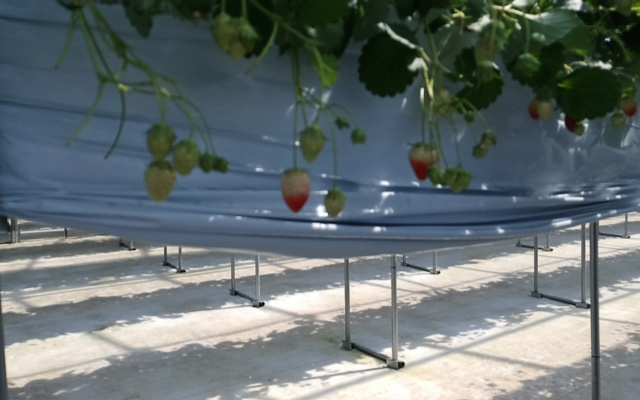GreenStrawberry: (281, 168, 313, 218), (143, 160, 177, 206), (405, 142, 440, 184), (144, 124, 175, 161), (171, 141, 202, 177), (298, 126, 324, 166), (322, 186, 347, 220), (536, 101, 557, 122), (526, 95, 541, 120), (621, 99, 638, 120), (611, 114, 625, 133)
